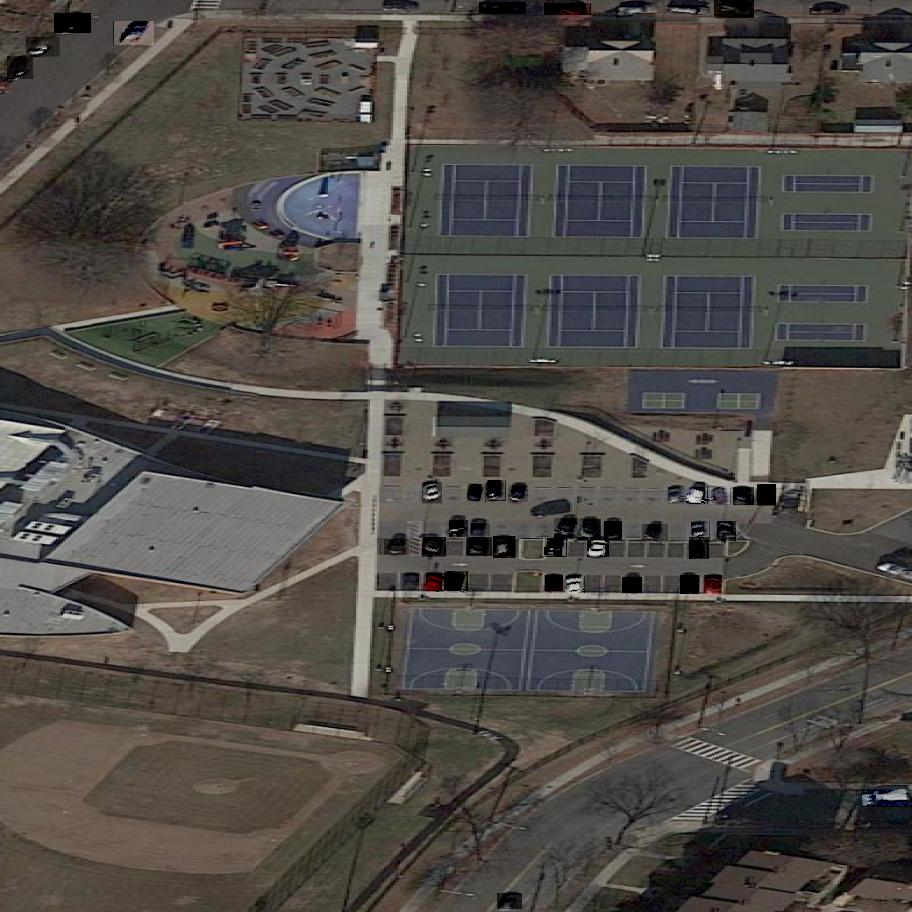small-vehicle: (115, 13, 155, 55), (55, 5, 94, 45), (27, 30, 62, 66), (861, 789, 909, 808), (8, 51, 34, 85), (617, 1, 664, 19), (714, 1, 754, 19), (490, 536, 518, 559), (555, 518, 583, 540), (479, 2, 526, 15), (685, 537, 711, 560), (422, 483, 447, 506), (466, 536, 492, 558), (544, 3, 590, 15), (423, 535, 447, 558), (643, 522, 668, 544), (577, 519, 601, 541), (661, 5, 708, 16), (445, 571, 468, 593), (483, 480, 506, 501), (466, 483, 488, 504), (687, 486, 710, 505), (544, 538, 567, 557), (734, 487, 755, 507), (564, 576, 586, 595), (708, 487, 731, 505), (717, 521, 737, 541), (508, 485, 529, 504), (679, 576, 700, 595), (588, 539, 609, 558), (691, 523, 711, 542), (758, 485, 777, 505), (497, 894, 522, 909), (604, 522, 623, 541), (385, 540, 409, 555), (426, 573, 444, 593), (623, 576, 643, 594), (704, 575, 722, 595), (666, 487, 686, 504), (546, 574, 563, 594), (450, 520, 468, 536), (402, 574, 418, 591), (809, 9, 845, 15), (472, 524, 490, 535)
